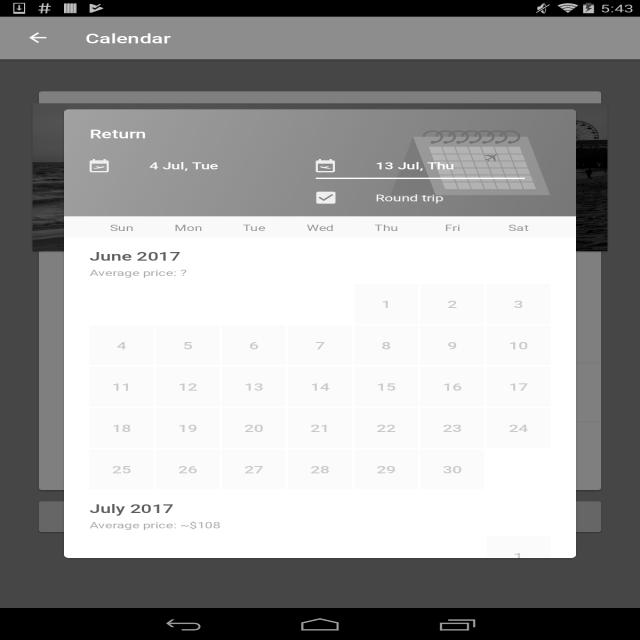CheckBox: (549, 381, 583, 402), (309, 187, 343, 208)
ImageButton: (9, 17, 68, 59)
ImageView: (32, 104, 608, 252), (390, 130, 550, 195), (525, 281, 601, 329), (64, 281, 84, 332), (306, 170, 333, 186), (64, 383, 84, 397), (316, 159, 335, 172), (90, 159, 108, 172), (64, 452, 84, 462), (137, 453, 146, 462), (168, 453, 175, 462), (198, 454, 206, 461)
TextView: (90, 248, 550, 264), (90, 500, 550, 516), (90, 266, 550, 278), (90, 519, 550, 531), (320, 437, 427, 477), (90, 284, 154, 324), (156, 284, 220, 324), (222, 284, 286, 324), (288, 284, 352, 324), (354, 284, 418, 324), (420, 284, 484, 324), (486, 284, 550, 324), (90, 326, 154, 366), (156, 326, 220, 366), (222, 326, 286, 366), (288, 326, 352, 366), (354, 326, 418, 366), (420, 326, 484, 366), (486, 326, 550, 366), (90, 366, 154, 406), (156, 366, 220, 406), (222, 366, 286, 406), (288, 366, 352, 406), (354, 366, 418, 406), (420, 366, 484, 406), (486, 366, 550, 406), (90, 408, 154, 448), (156, 408, 220, 448), (222, 408, 286, 448), (288, 408, 352, 448), (354, 408, 418, 448), (420, 408, 484, 448), (486, 408, 550, 448), (90, 450, 154, 490), (156, 450, 220, 490), (222, 450, 286, 490), (288, 450, 352, 490), (354, 450, 418, 490), (420, 450, 484, 490), (486, 450, 550, 490), (90, 536, 154, 576), (156, 536, 220, 576), (222, 536, 286, 576), (288, 536, 352, 576), (354, 536, 418, 576), (420, 536, 484, 576), (486, 536, 550, 576), (251, 509, 388, 524), (124, 314, 230, 330), (349, 382, 454, 398), (85, 29, 171, 47), (124, 271, 213, 288), (124, 382, 218, 398), (349, 165, 401, 189), (239, 165, 290, 189), (124, 288, 245, 298), (124, 331, 245, 340), (375, 159, 455, 172), (90, 125, 146, 142), (149, 159, 219, 172), (375, 191, 444, 204), (90, 222, 154, 232), (156, 222, 220, 232), (222, 222, 286, 232), (288, 222, 352, 232), (354, 222, 418, 232), (420, 222, 484, 232), (486, 222, 550, 232), (124, 451, 133, 464), (155, 451, 164, 464), (185, 451, 194, 464)
